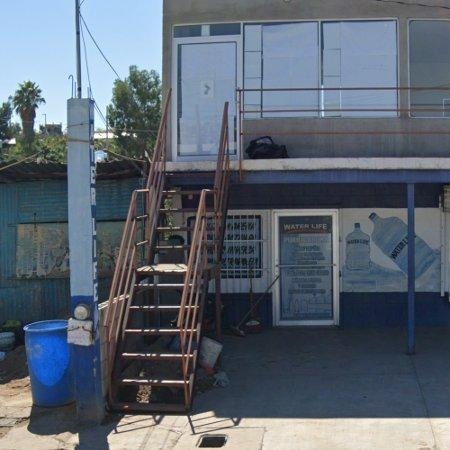stairs: (105, 96, 230, 414)
